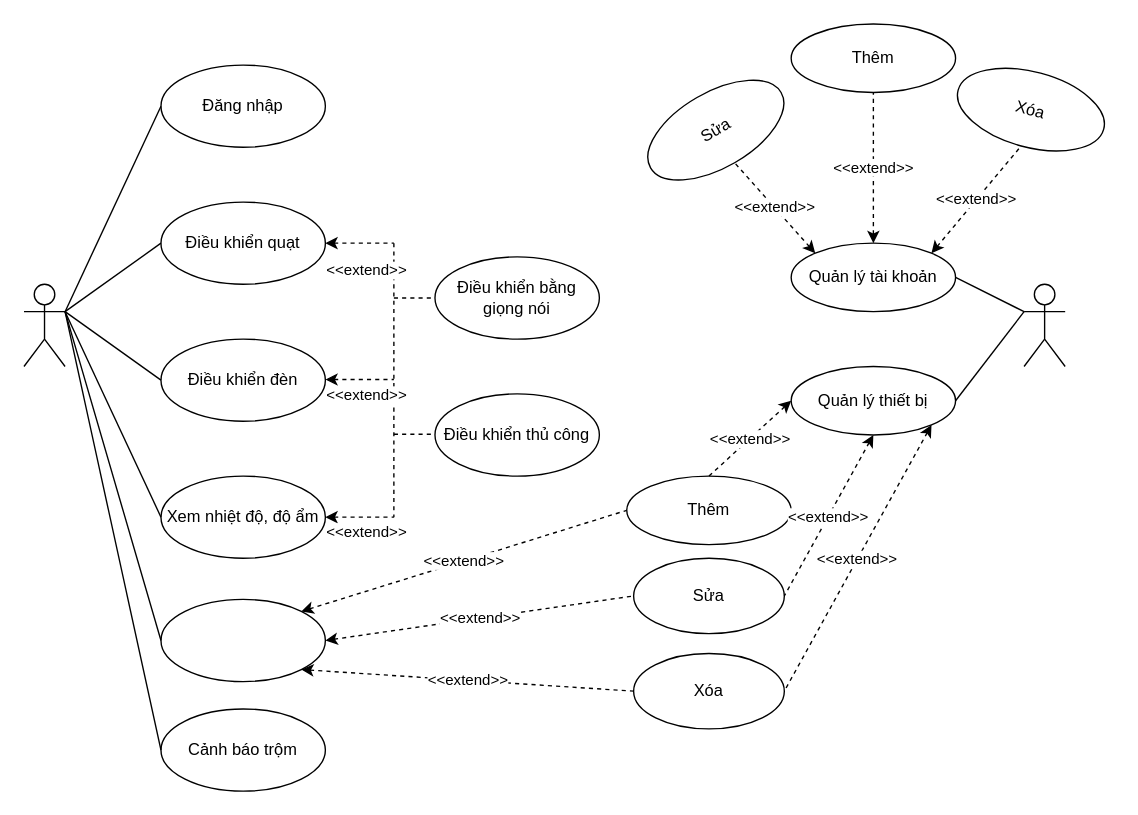
Some shapes in this 1138 by 815 pixel diagram are drawn without their labels. The shapes that lost their labels are listed below. From the top down, each one's centre as x and y in pixels, then its label:
At pixel 44 324: "User".
At pixel 1044 324: "Admin".
At pixel 242 640: "Thêm thiết bị".
